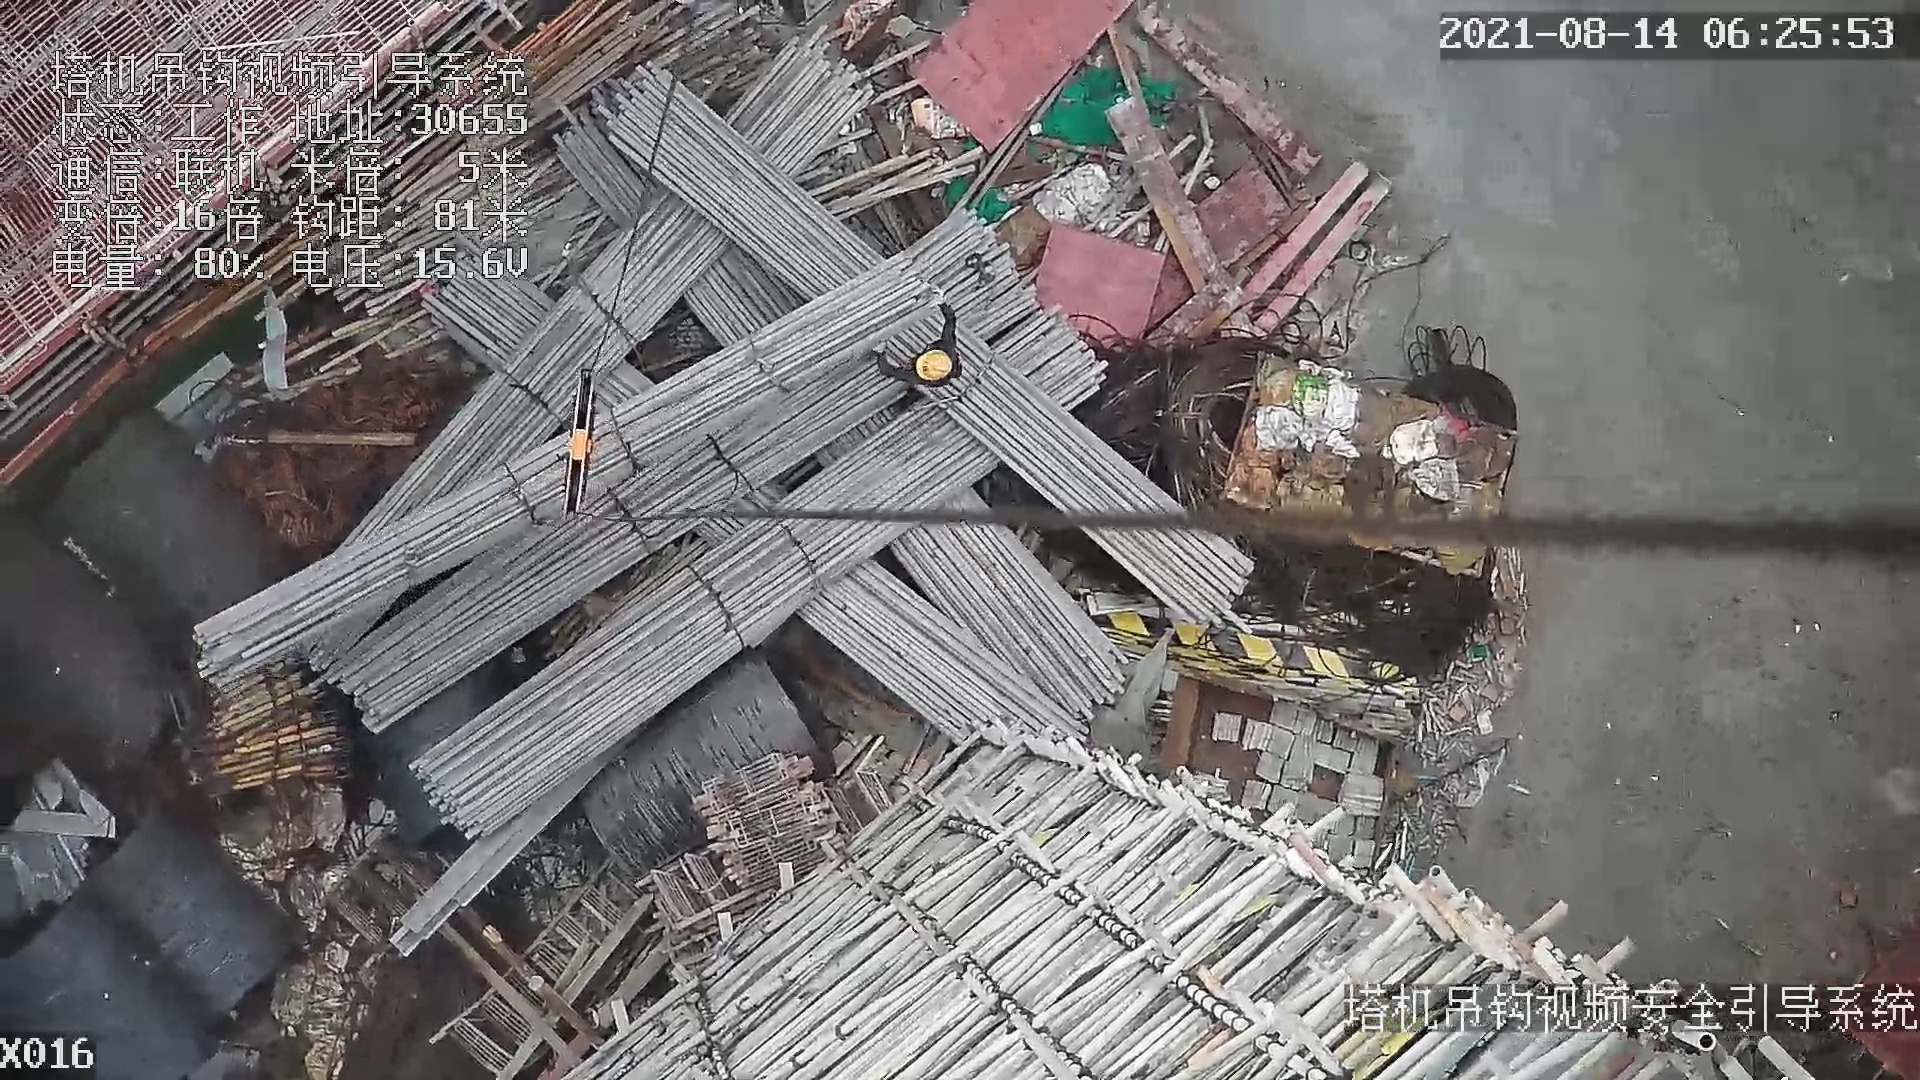helmet: (908, 349, 958, 390)
hook: (542, 363, 608, 527)
person: (869, 286, 967, 394)
